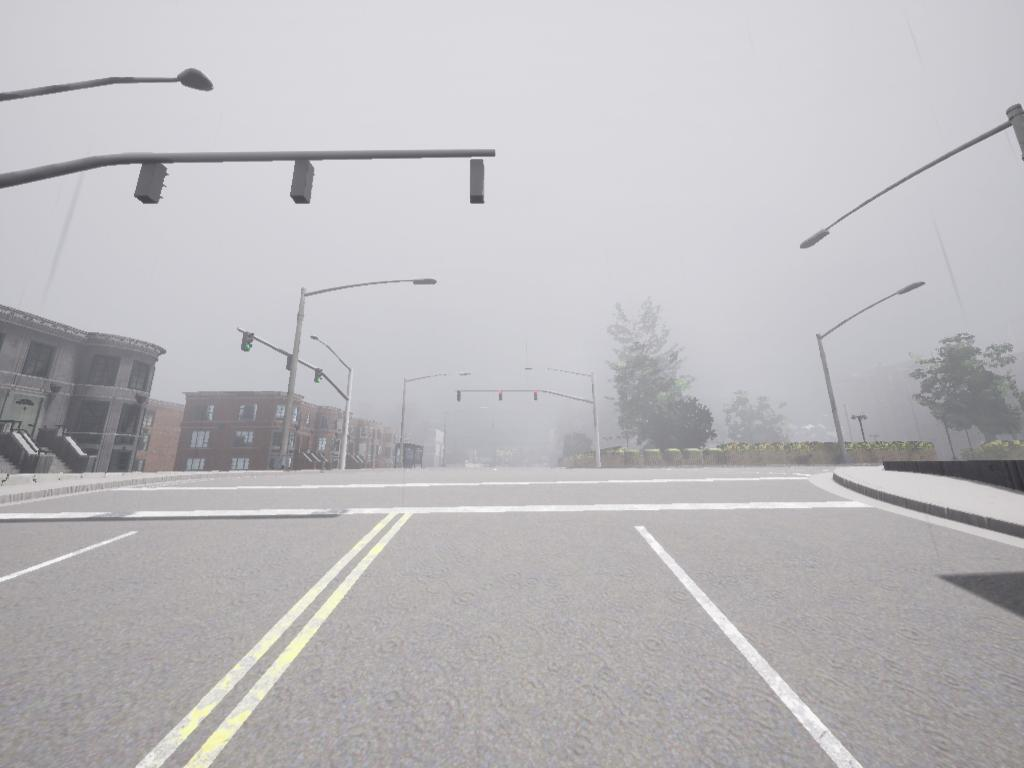traffic_light: (135, 165, 170, 207), (290, 160, 316, 207), (471, 159, 486, 206), (239, 331, 252, 352), (315, 369, 325, 387), (289, 353, 295, 377), (457, 390, 462, 404), (498, 392, 504, 403), (535, 392, 540, 405)
